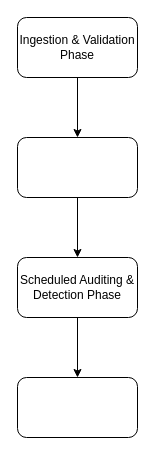
The diagram is 155 pixels wide and 455 high, and some of its shapes have lost their labels. Each missing label, with the centre of its shape:
"Automated Processing Phase" goes at (77,167).
"Distribution & Notification Phase" goes at (77,407).
